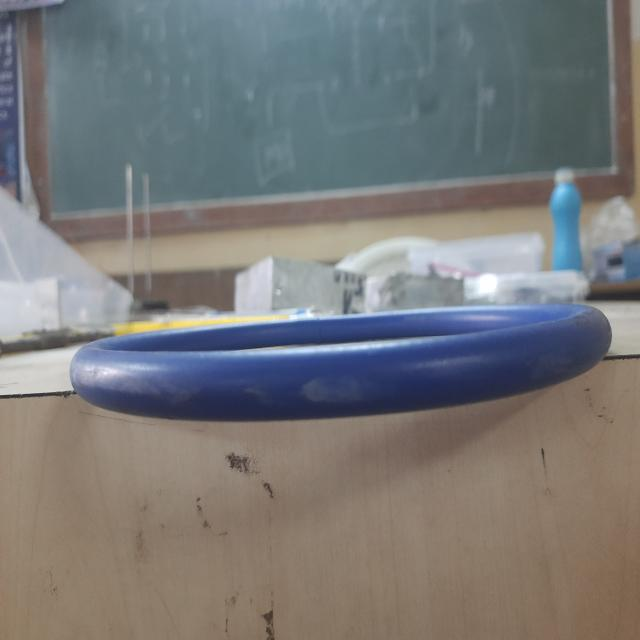daire: (76, 302, 610, 411)
